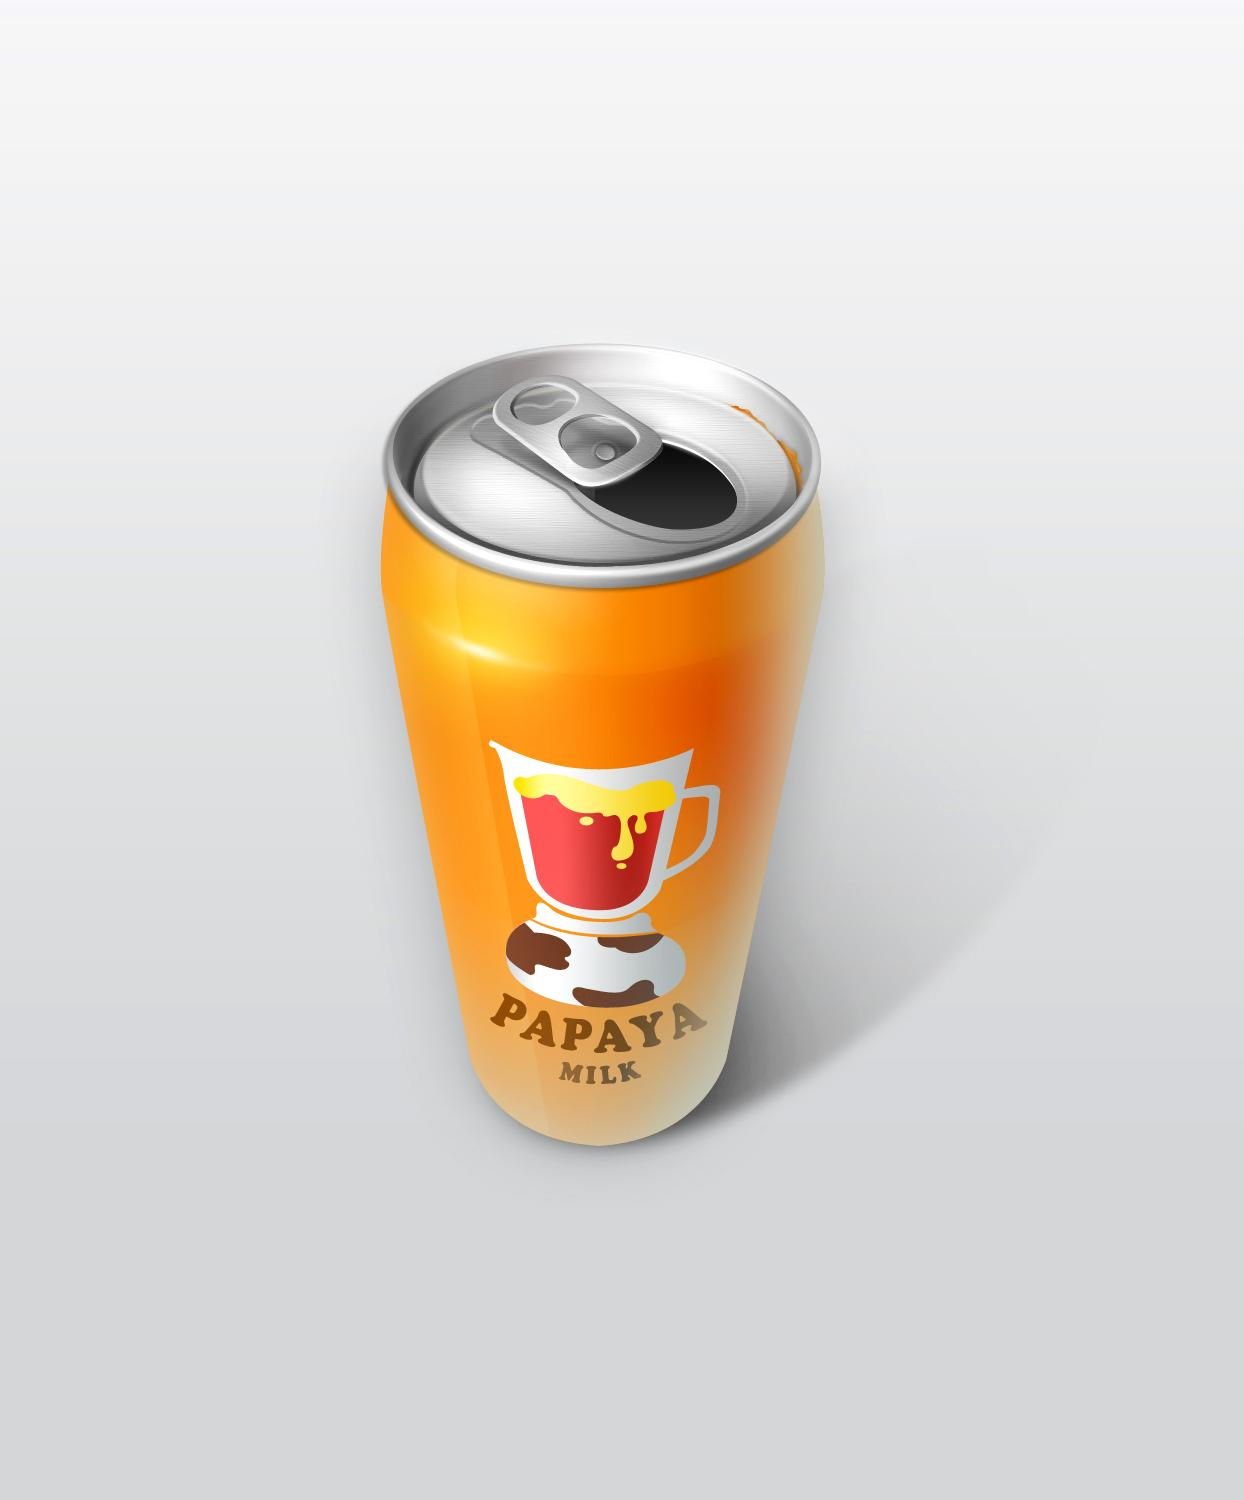metal: (382, 346, 823, 1142)
